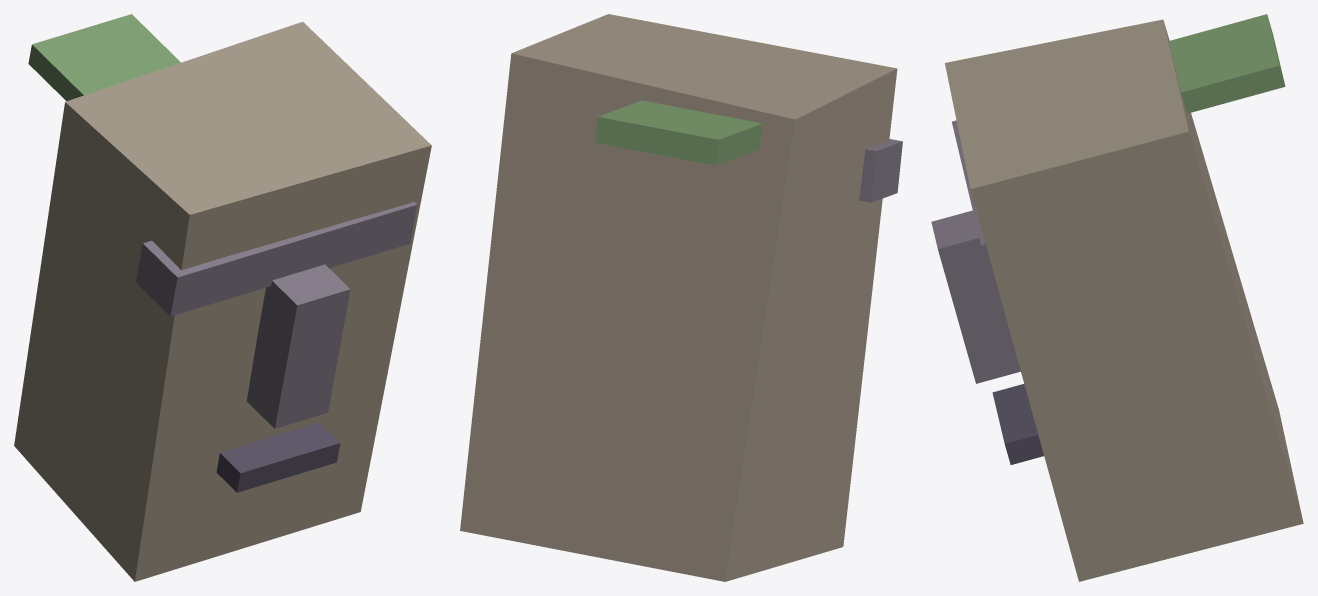
File: stone_head.glb
3 views of the same model, side by side, from view 1: azimuth 30°, elevation 25°; view 2: azimuth 150°, elevation 25°; view 3: azimuth 270°, elevation 25° (orthographic). The views are drawn at different scales.
Parts seen in each view (by area): view 1: head, nose, brow, detail_moss, detail_lips; view 2: head, detail_moss, brow; view 3: head, detail_moss, nose, detail_lips, brow.
Part boxes in pixels (box(x1,y1,x2,y2)): head: box(14, 21, 431, 581); nose: box(246, 264, 350, 428); brow: box(136, 202, 416, 316); detail_moss: box(28, 14, 180, 101); detail_lips: box(216, 422, 340, 492); head: box(460, 14, 897, 581); detail_moss: box(595, 100, 762, 165); brow: box(859, 139, 902, 202); head: box(945, 19, 1303, 581); detail_moss: box(1169, 14, 1285, 113); nose: box(931, 210, 1020, 383); detail_lips: box(992, 384, 1043, 464); brow: box(952, 120, 997, 287).
Bounding box in the file's own units: 0.7609 × 1.23 × 0.9116.
